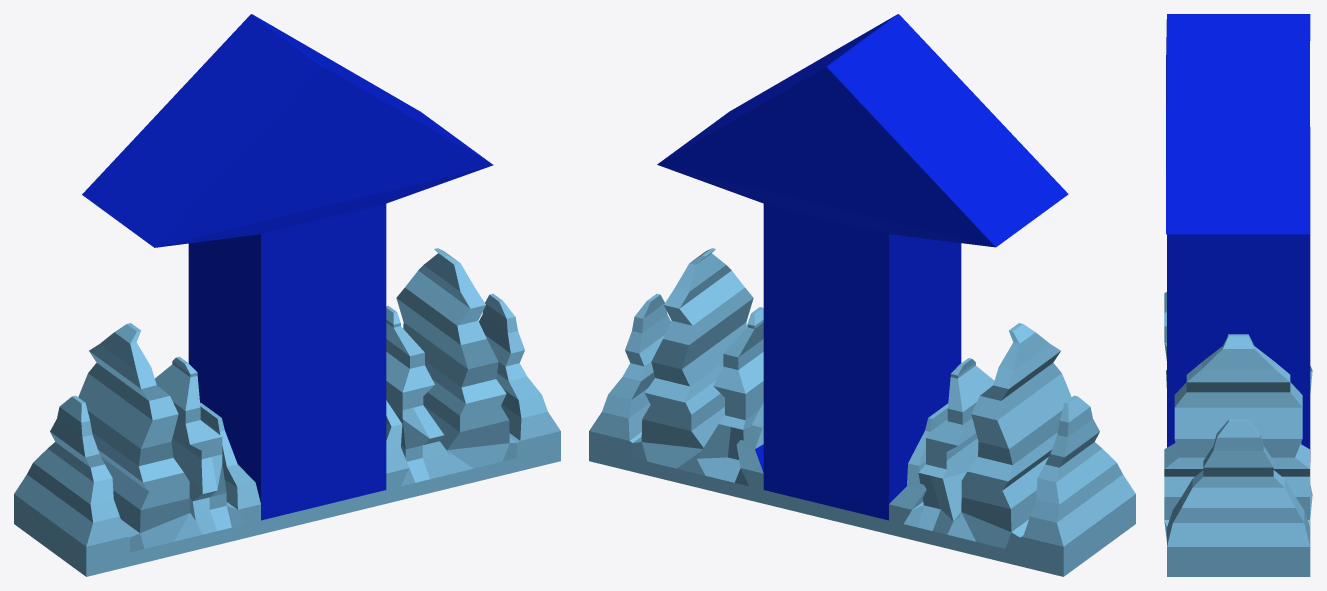
Rendered from speedХОРОШИЙ.fbx.
3 views of the same model, side by side, from view 1: azimuth 30°, elevation 25°; view 2: azimuth 150°, elevation 25°; view 3: azimuth 270°, elevation 25° (orthographic).
Parts seen in each view (by area): view 1: Cube; view 2: Cube; view 3: Cube.
Boxes of the visible parts, x1=… form: Cube: x1=14, y1=14, x2=560, y2=576; Cube: x1=589, y1=14, x2=1135, y2=576; Cube: x1=1164, y1=14, x2=1312, y2=576.
Size of the model in its own units: 0.2905 by 1.06 by 0.9683.
